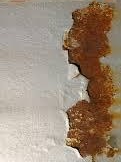Corrosion: (61, 1, 121, 162)
